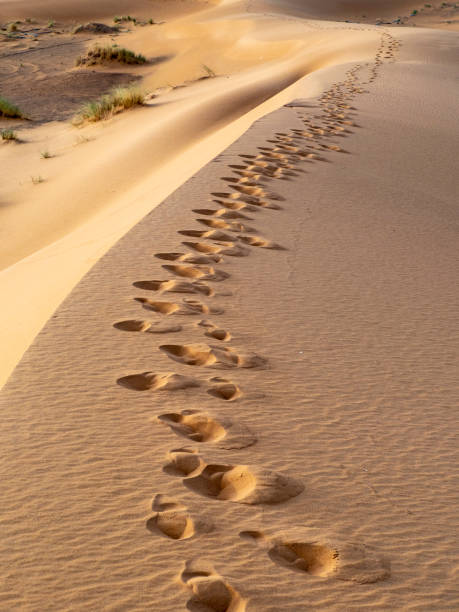animal_foot_print: (239, 530, 389, 583), (183, 459, 303, 504), (158, 410, 256, 449), (181, 560, 245, 611), (146, 494, 211, 539), (159, 344, 265, 368), (134, 297, 222, 315), (117, 371, 200, 390), (133, 280, 214, 295), (163, 447, 204, 476), (162, 264, 229, 281), (113, 319, 182, 333), (154, 252, 222, 264), (196, 218, 254, 232), (207, 377, 241, 400), (178, 229, 233, 242), (198, 320, 231, 341), (193, 208, 252, 219), (213, 199, 258, 212), (239, 236, 284, 249)
